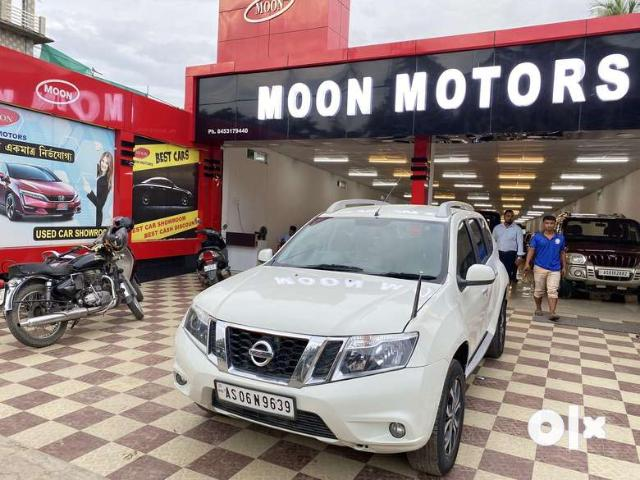Indian_Number_Plate: (215, 381, 295, 421)
